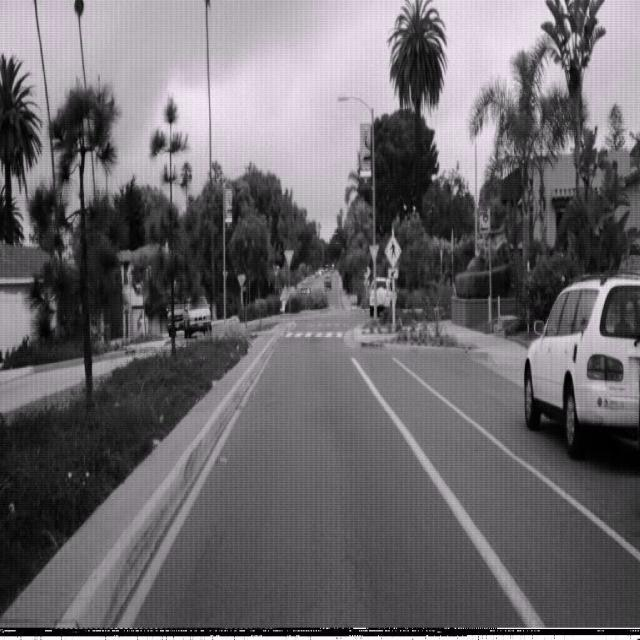pedestrianCrossing: (384, 233, 402, 267)
yield: (369, 242, 380, 264), (284, 249, 294, 267)
